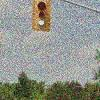traffic lights: (32, 1, 52, 31)
